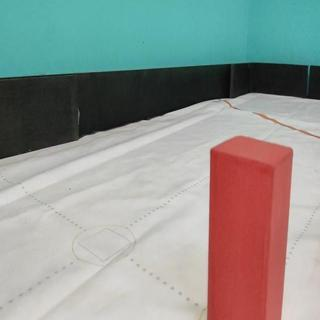redbox: (207, 135, 293, 320)
